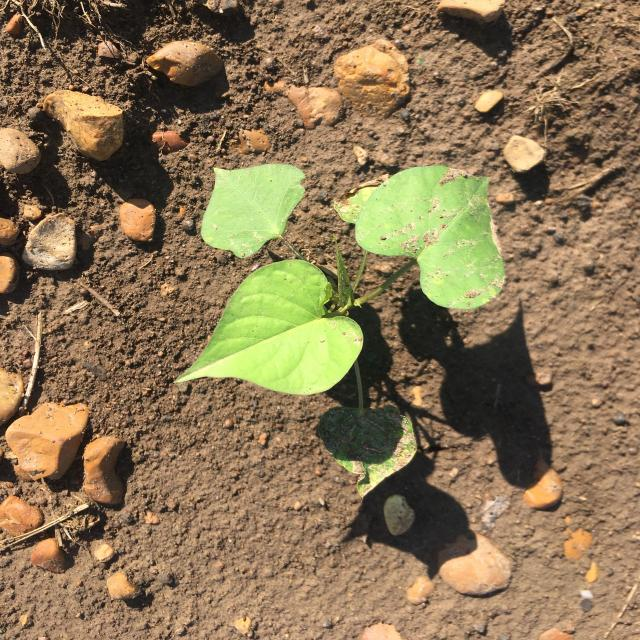MorningGlory: (173, 163, 505, 499)
